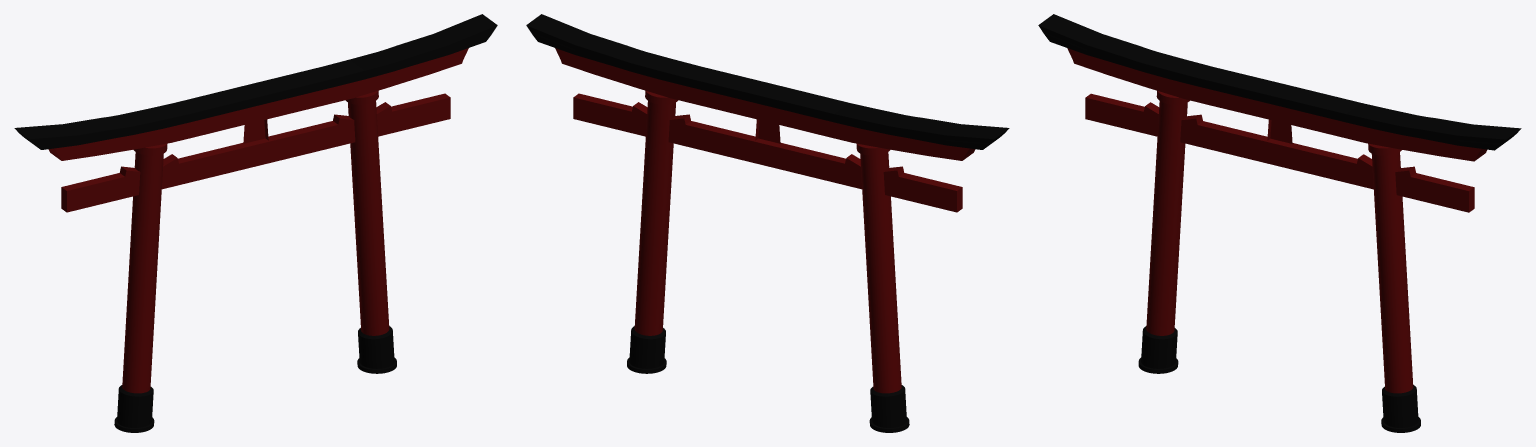
Rendered from Inari_1.obj.
The picture shows the model from 3 angles, left to right: view 1: azimuth 30°, elevation 25°; view 2: azimuth 150°, elevation 25°; view 3: azimuth 330°, elevation 25°; orthographic projection.
Visible parts, largest first — view 1: Cube.006_Cube.016; view 2: Cube.006_Cube.016; view 3: Cube.006_Cube.016.
Part boxes in pixels (left/top/right/bottom): Cube.006_Cube.016: left=14, top=14, right=497, bottom=432; Cube.006_Cube.016: left=526, top=14, right=1009, bottom=432; Cube.006_Cube.016: left=1038, top=14, right=1521, bottom=432.
Size of the model in its own units: 19.43 by 12.64 by 1.42.
